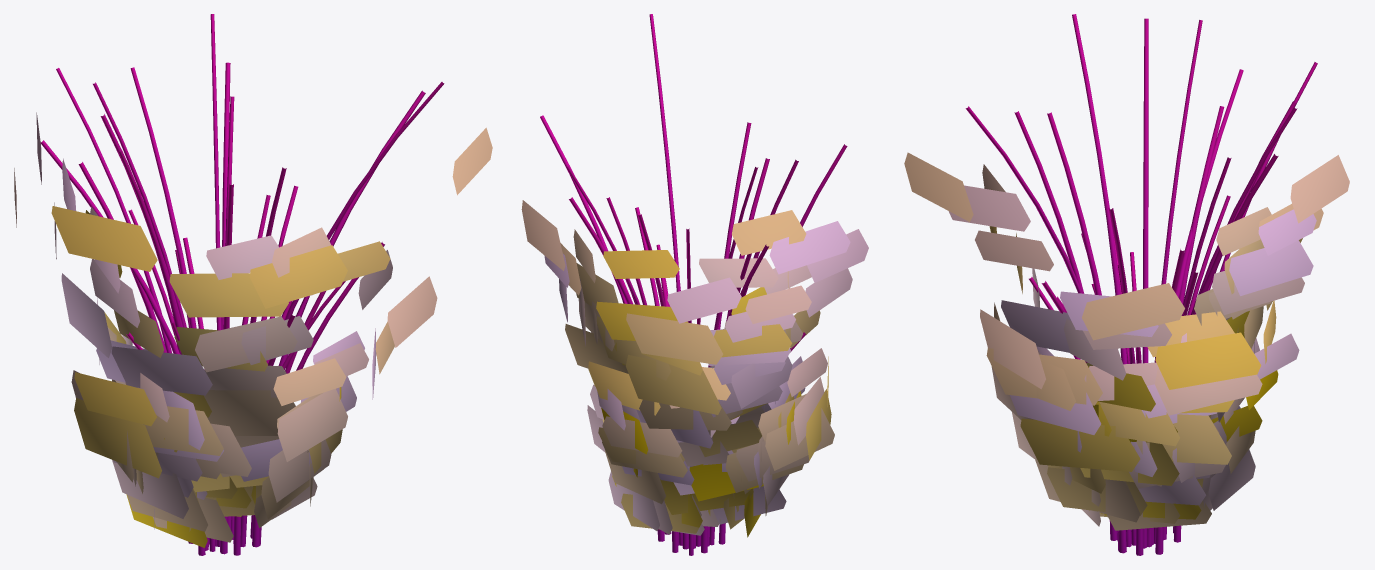
Rendered from tv_bamboo.glb.
The picture shows the model from 3 angles, left to right: view 1: azimuth 30°, elevation 25°; view 2: azimuth 150°, elevation 25°; view 3: azimuth 270°, elevation 25°; orthographic projection. The views are drawn at different scales.
Visible parts, largest first — view 1: tv_bamboo_v1_lod0, tv_bamboo_v0_lod0; view 2: tv_bamboo_v1_lod0, tv_bamboo_v0_lod0; view 3: tv_bamboo_v1_lod0, tv_bamboo_v0_lod0.
Boxes of the visible parts, box(x1,y1,x2,y2) form: tv_bamboo_v1_lod0: box(14, 14, 492, 555); tv_bamboo_v0_lod0: box(71, 185, 437, 551); tv_bamboo_v1_lod0: box(521, 14, 868, 555); tv_bamboo_v0_lod0: box(587, 207, 834, 552); tv_bamboo_v1_lod0: box(904, 14, 1349, 555); tv_bamboo_v0_lod0: box(980, 195, 1299, 554).
Size of what is drawn, in the model's own units: 9.1 by 10.5 by 8.68.
